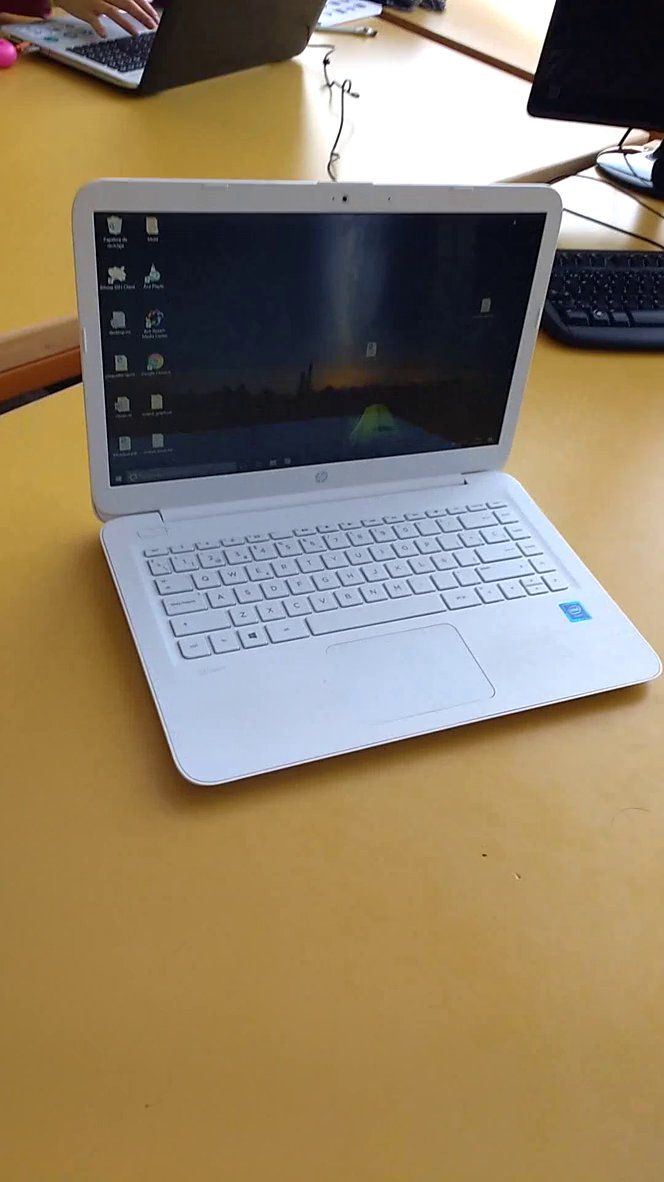laptop: (63, 163, 664, 809), (2, 1, 357, 119)
